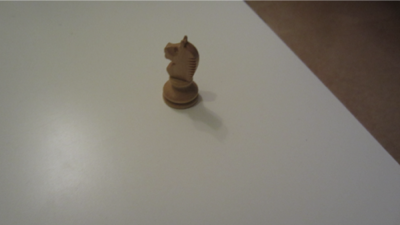white-knight: (162, 35, 201, 110)
